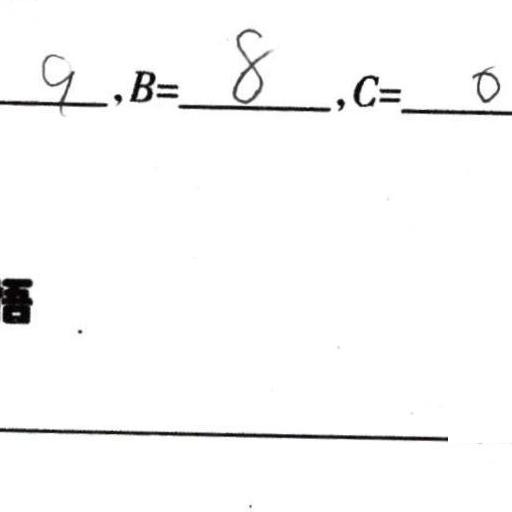ans: (225, 21, 272, 103), (36, 46, 74, 115), (470, 62, 503, 106)
